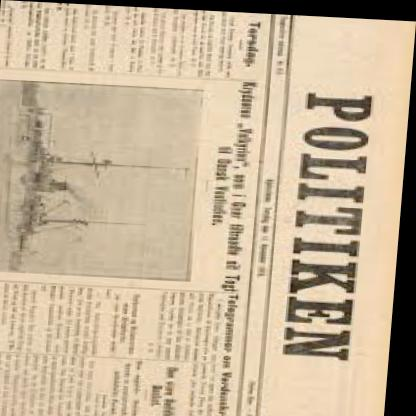Paper: (0, 5, 409, 416)
